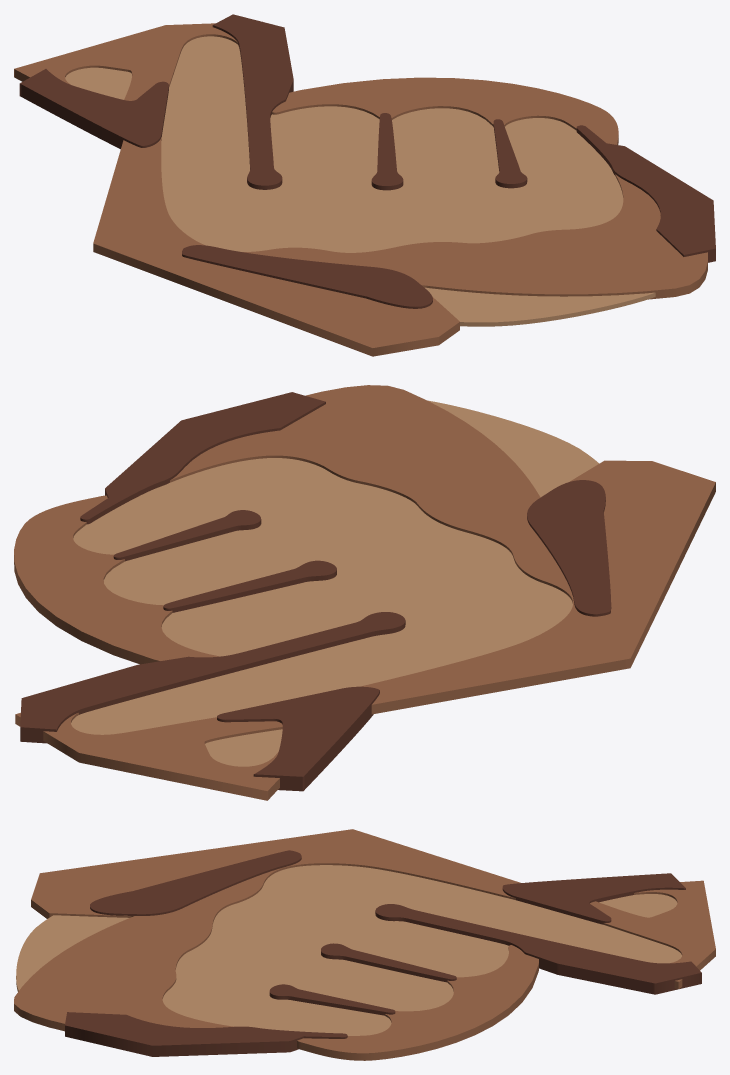
Rendered from emoji_u1faf0_1f3fd.glb.
3 views of the same model, one above another, from view 1: azimuth 30°, elevation 25°; view 2: azimuth 150°, elevation 25°; view 3: azimuth 270°, elevation 25° (orthographic). The views are drawn at different scales.
Parts seen in each view (by area): view 1: emoji_u1faf0_1f3fd; view 2: emoji_u1faf0_1f3fd; view 3: emoji_u1faf0_1f3fd.
Boxes of the visible parts, left/top/right/bottom form: emoji_u1faf0_1f3fd: left=14, top=14, right=715, bottom=356; emoji_u1faf0_1f3fd: left=14, top=385, right=715, bottom=800; emoji_u1faf0_1f3fd: left=14, top=829, right=715, bottom=1060.
Bounding box in the file's own units: 0.0257 × 0.0006 × 0.0339.
